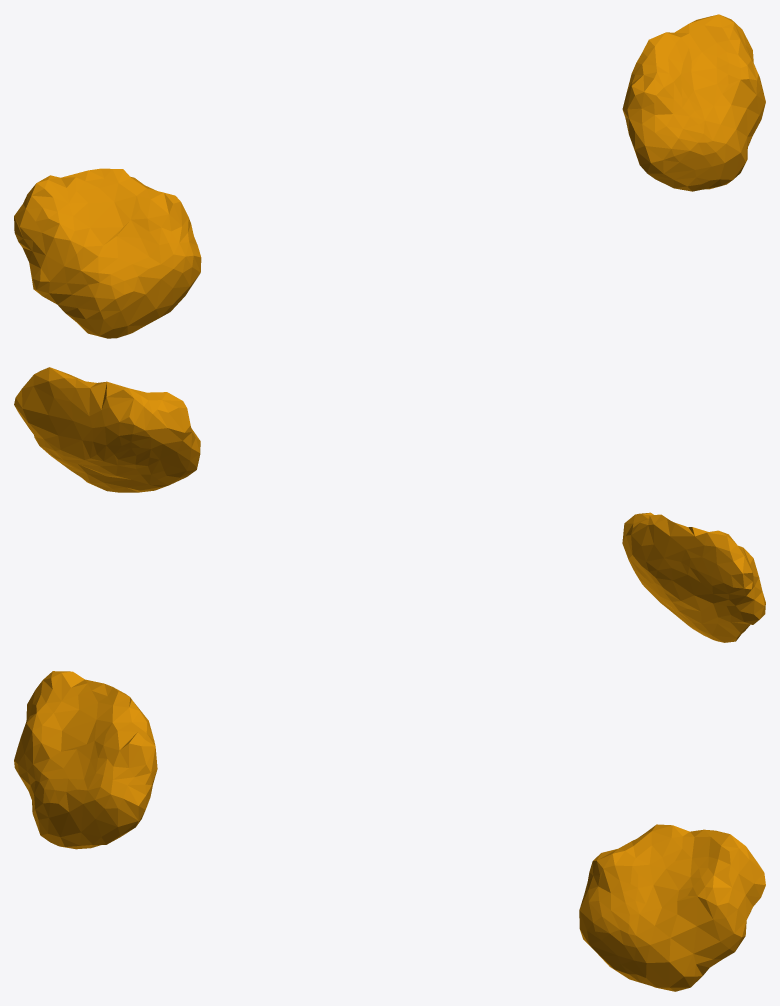
File: 232-TLO(36O)-temporal area TL, occipital part (area 36O)-('1.0000', '0.6510', '0.0000').obj
3 renders of one model, top to bottom at view 1: azimuth 30°, elevation 25°; view 2: azimuth 150°, elevation 25°; view 3: azimuth 330°, elevation 25°, orthographic.
Size of the model in its own units: 222 by 41.21 by 27.52.
